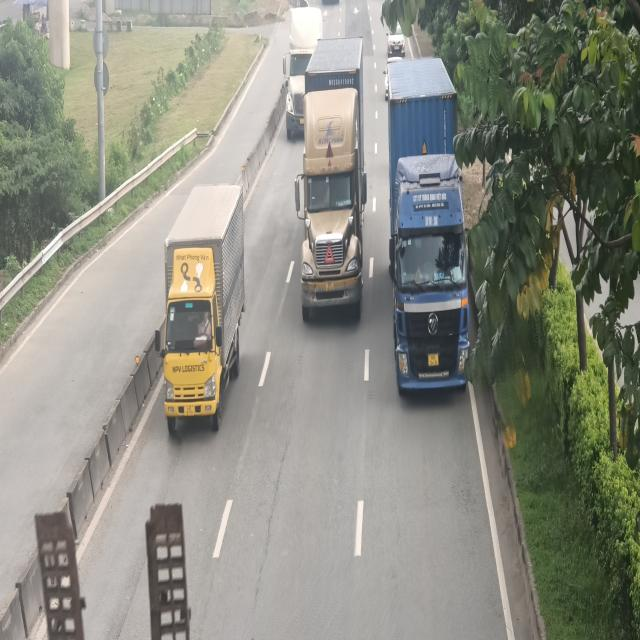container: (387, 57, 472, 394), (294, 36, 366, 318), (284, 8, 322, 139)
truck: (155, 181, 245, 433)
